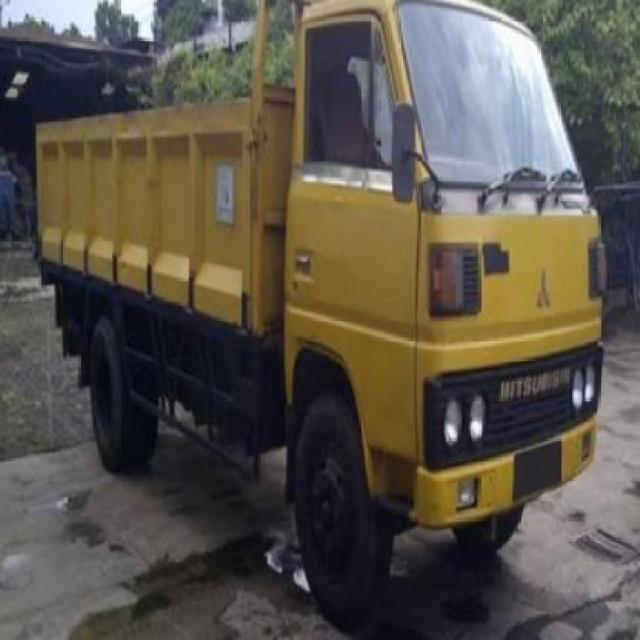truck: (37, 1, 611, 592)
